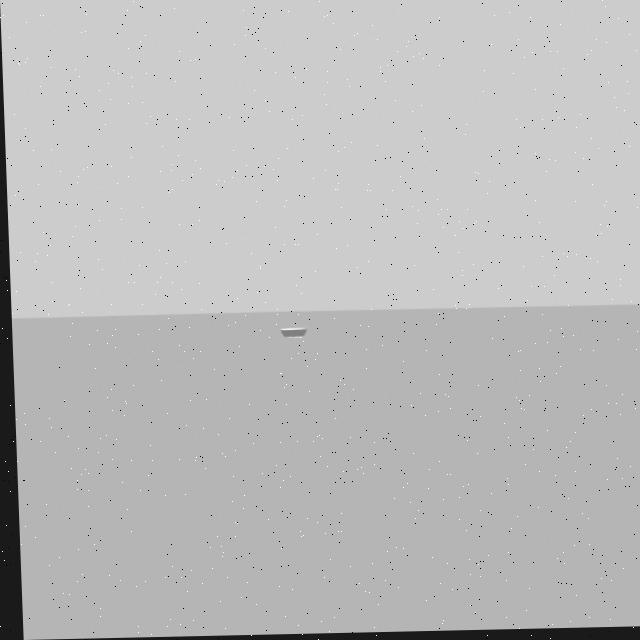bowl: (273, 321, 312, 351)
